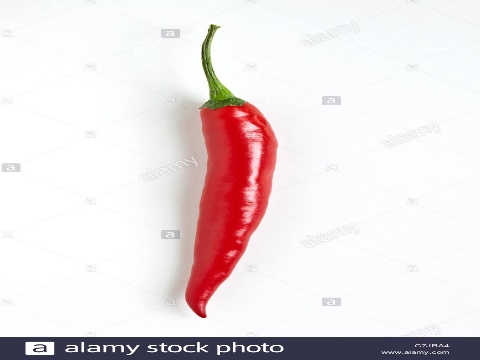Chilli: (170, 16, 282, 327)
